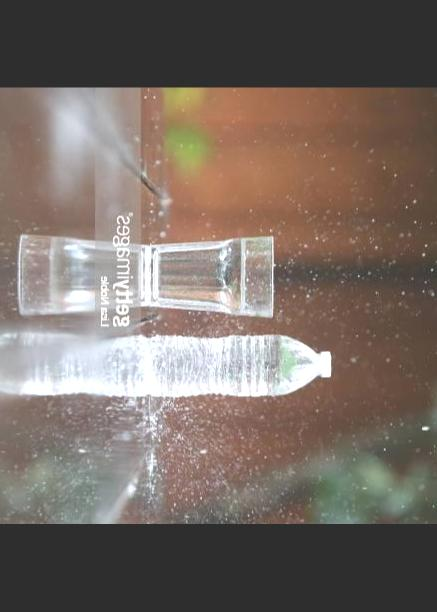bottle: (122, 325, 339, 405)
